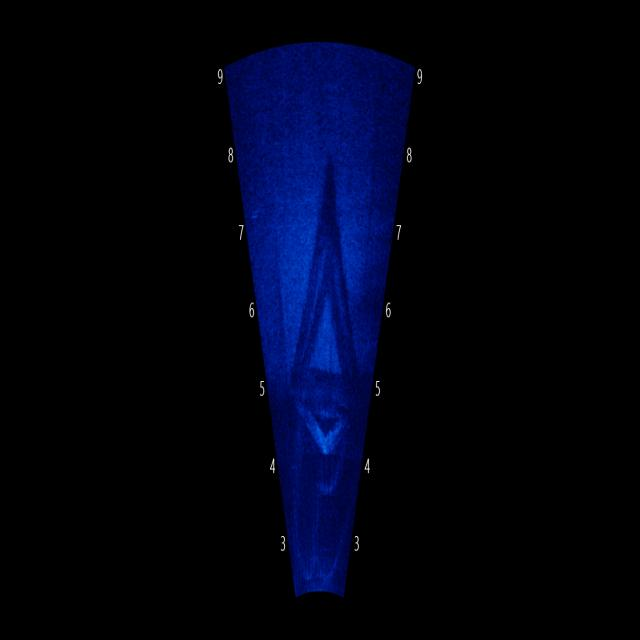triangle: (273, 134, 369, 428)
